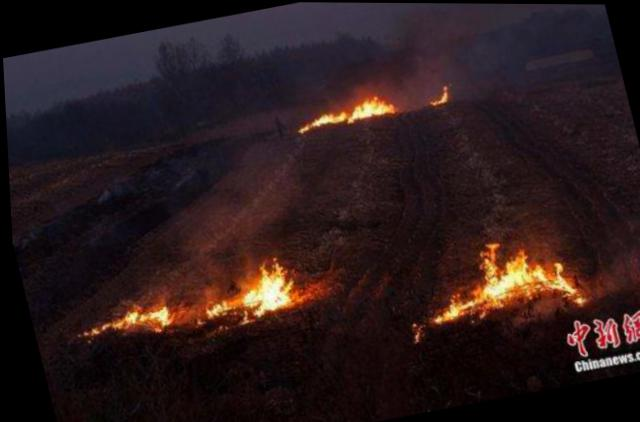fire: (231, 260, 292, 317), (471, 243, 504, 303), (341, 91, 391, 119), (495, 248, 527, 291), (294, 107, 345, 128), (133, 301, 167, 332), (428, 293, 468, 316), (465, 280, 488, 312), (523, 262, 544, 286), (561, 278, 580, 304), (544, 260, 562, 287), (106, 309, 133, 325), (199, 300, 226, 315), (76, 321, 107, 334), (435, 85, 447, 101), (424, 94, 441, 104)
